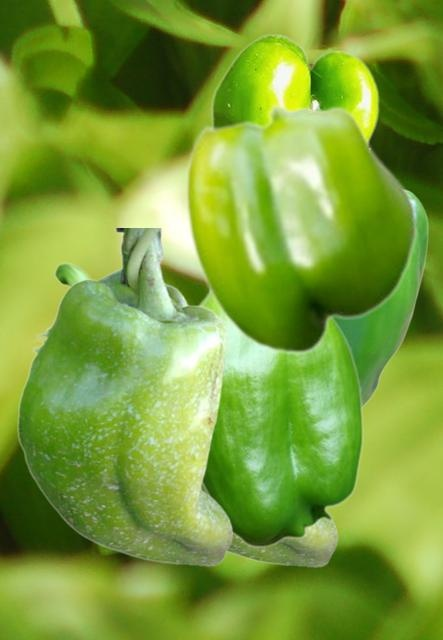bell_pepper: (16, 228, 232, 565), (185, 103, 417, 354), (197, 291, 363, 547), (337, 191, 427, 406), (208, 33, 378, 142), (228, 521, 337, 566), (45, 262, 92, 329)
